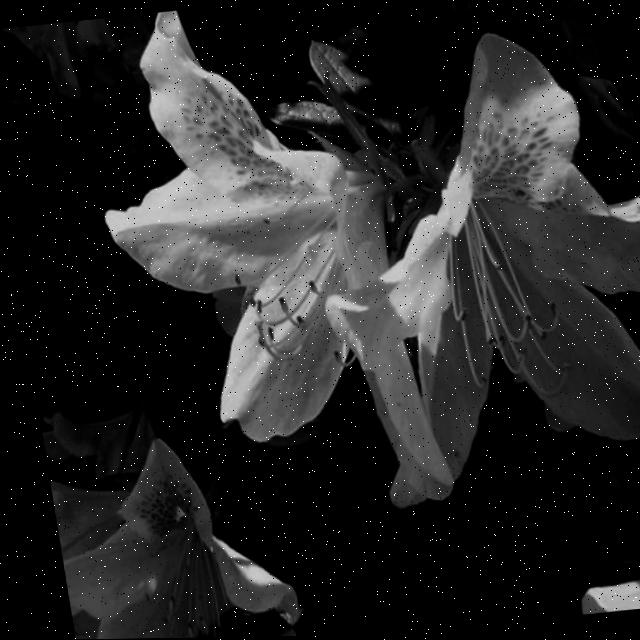azalea: (92, 0, 640, 494), (48, 402, 295, 640)
